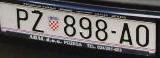-: (112, 31, 116, 33)
0: (136, 25, 149, 47)
8: (63, 15, 76, 37), (96, 19, 108, 41)
9: (79, 17, 92, 39)
A: (119, 23, 133, 45)
P: (17, 9, 27, 29)
Z: (31, 11, 43, 32)
